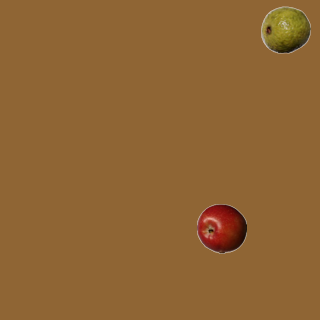Apple Braeburn: (196, 203, 246, 253)
Guava: (260, 4, 310, 54)
